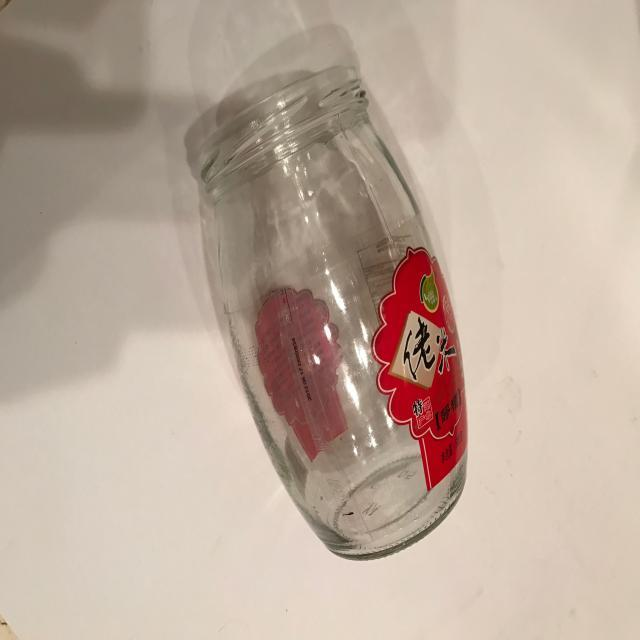glass: (190, 66, 468, 562)
